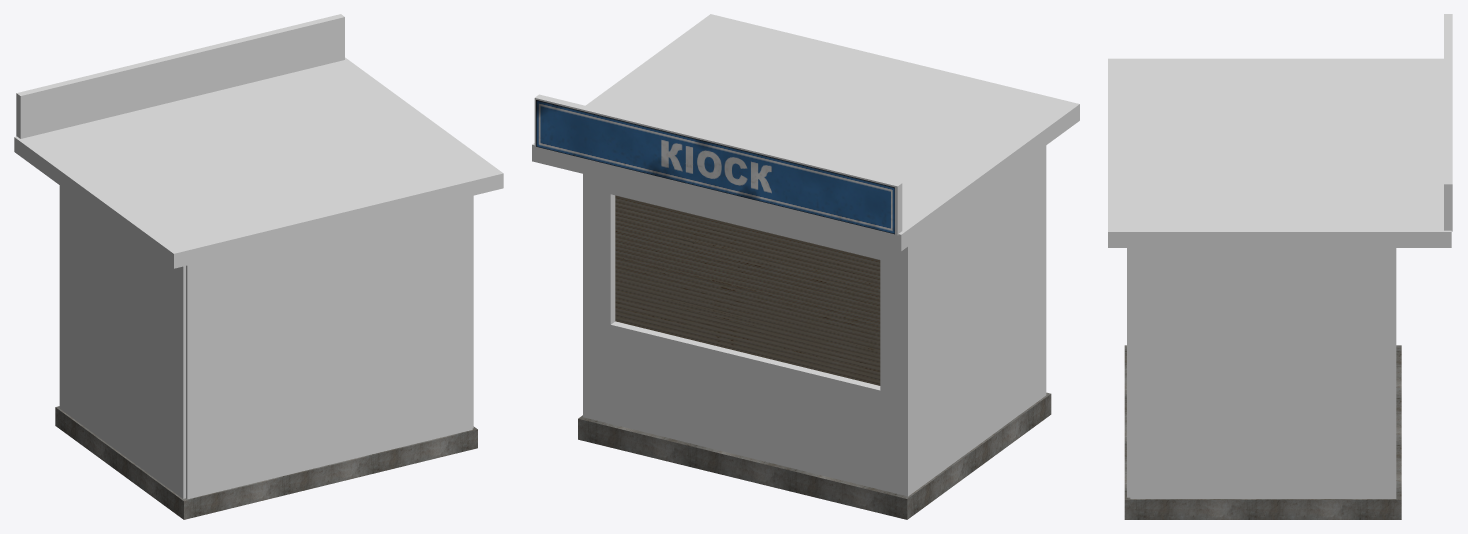
The model's file is S1U_Kiosk_B.fbx.
The picture shows the model from 3 angles, left to right: view 1: azimuth 30°, elevation 25°; view 2: azimuth 150°, elevation 25°; view 3: azimuth 270°, elevation 25°; orthographic projection. The views are drawn at different scales.
Parts seen in each view (by area): view 1: S1U_Kiosk_B; view 2: S1U_Kiosk_B; view 3: S1U_Kiosk_B.
Boxes of the visible parts, left/top/right/bottom form: S1U_Kiosk_B: left=14, top=14, right=503, bottom=519; S1U_Kiosk_B: left=532, top=14, right=1079, bottom=519; S1U_Kiosk_B: left=1108, top=14, right=1452, bottom=519.
Bounding box in the file's own units: 3.7 × 3.42 × 3.12.
